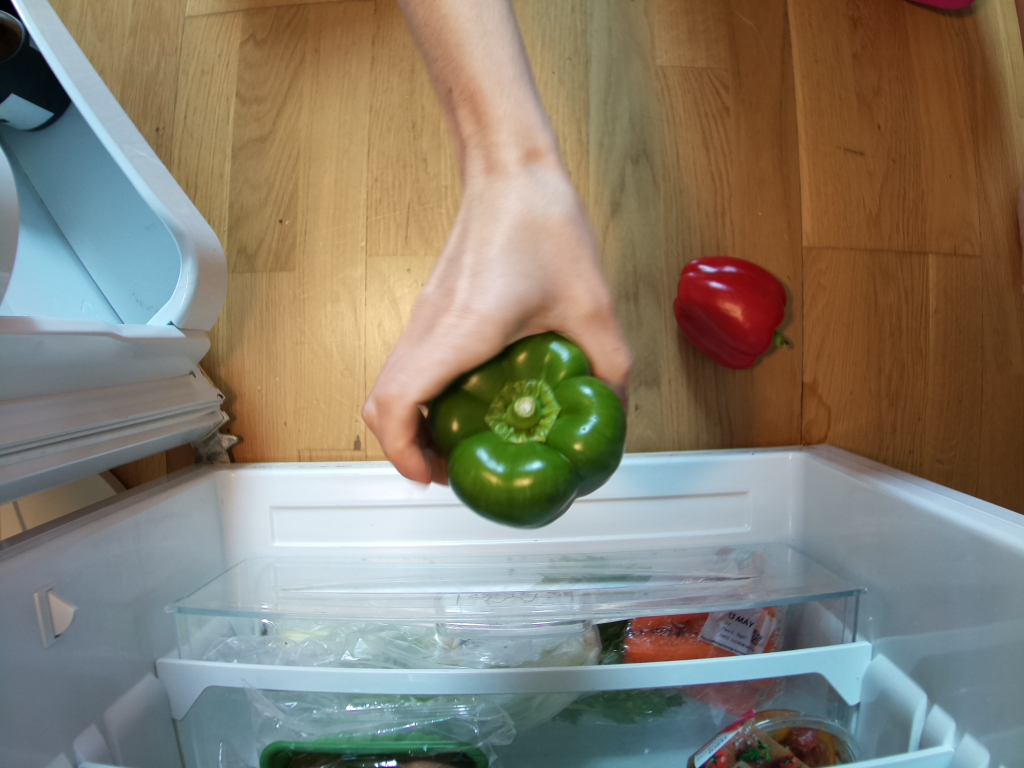pepper: (429, 333, 630, 528), (675, 252, 797, 367)
